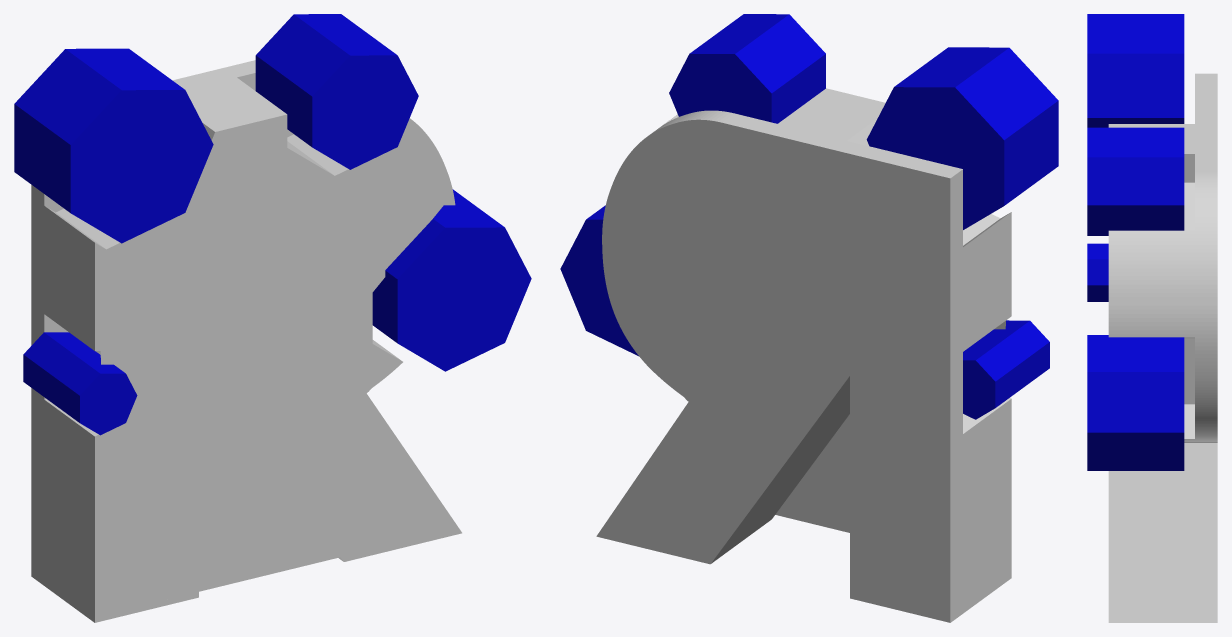
The model's file is Ch_Lite_R_01.fbx.
3 renders of one model, left to right at view 1: azimuth 30°, elevation 25°; view 2: azimuth 150°, elevation 25°; view 3: azimuth 270°, elevation 25°, orthographic. The views are drawn at different scales.
Visible parts, largest first — view 1: sphere1; view 2: sphere1; view 3: sphere1.
Boxes of the visible parts, bbox=[...] form: sphere1: bbox=[14, 14, 531, 622]; sphere1: bbox=[560, 14, 1058, 622]; sphere1: bbox=[1087, 14, 1217, 622].
Size of the model in its own units: 0.8359 by 0.9329 by 0.2387.
